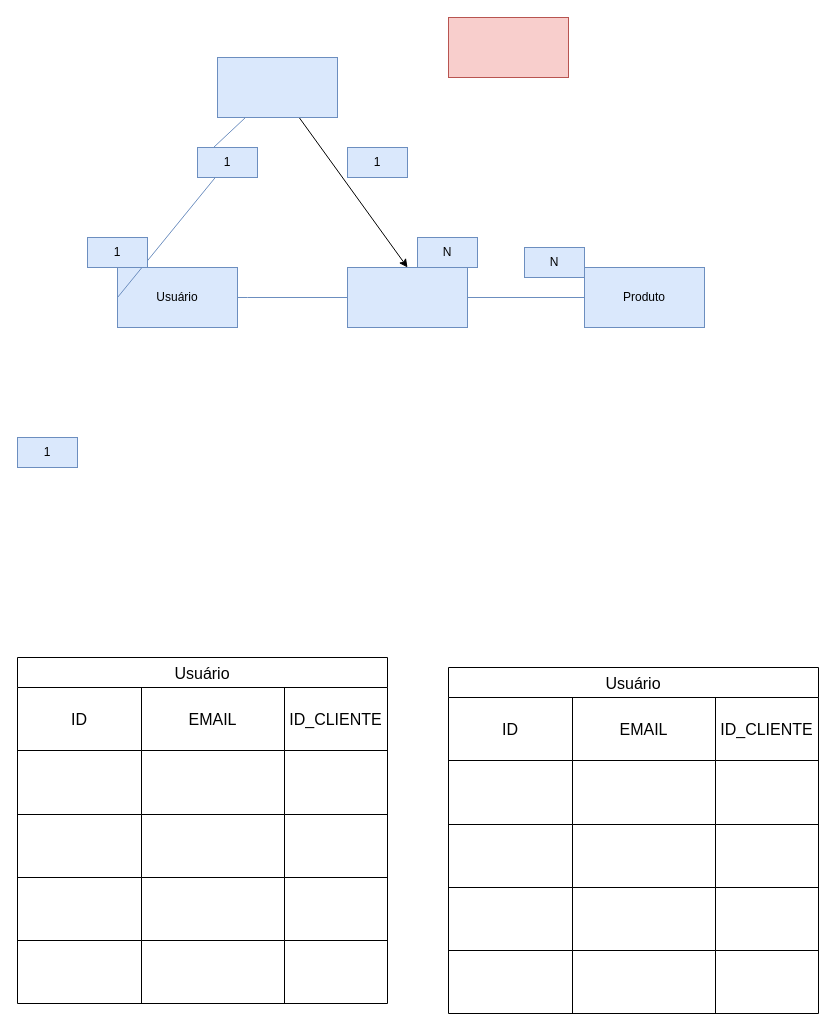
This 836x1031 diagram has some shape labels left out. Here are the shapes that lost their labels. From the top down, the centre of each, then its label:
point 508,47: Entidades
point 277,87: Cliente
point 407,297: Venda
